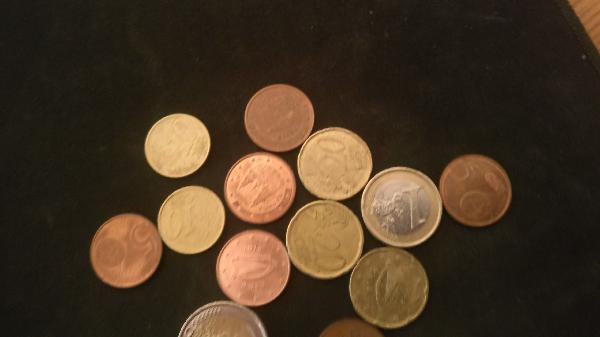Five Cent: (216, 228, 292, 307), (90, 215, 170, 289), (438, 153, 512, 225), (225, 151, 296, 222), (244, 83, 316, 151)
One Euro: (362, 167, 440, 245)
Ten Cent: (156, 186, 223, 254), (144, 112, 211, 175)
Twenty Cent: (349, 248, 429, 325), (289, 200, 359, 279), (301, 127, 368, 198)
Two Euro: (180, 299, 260, 337)
